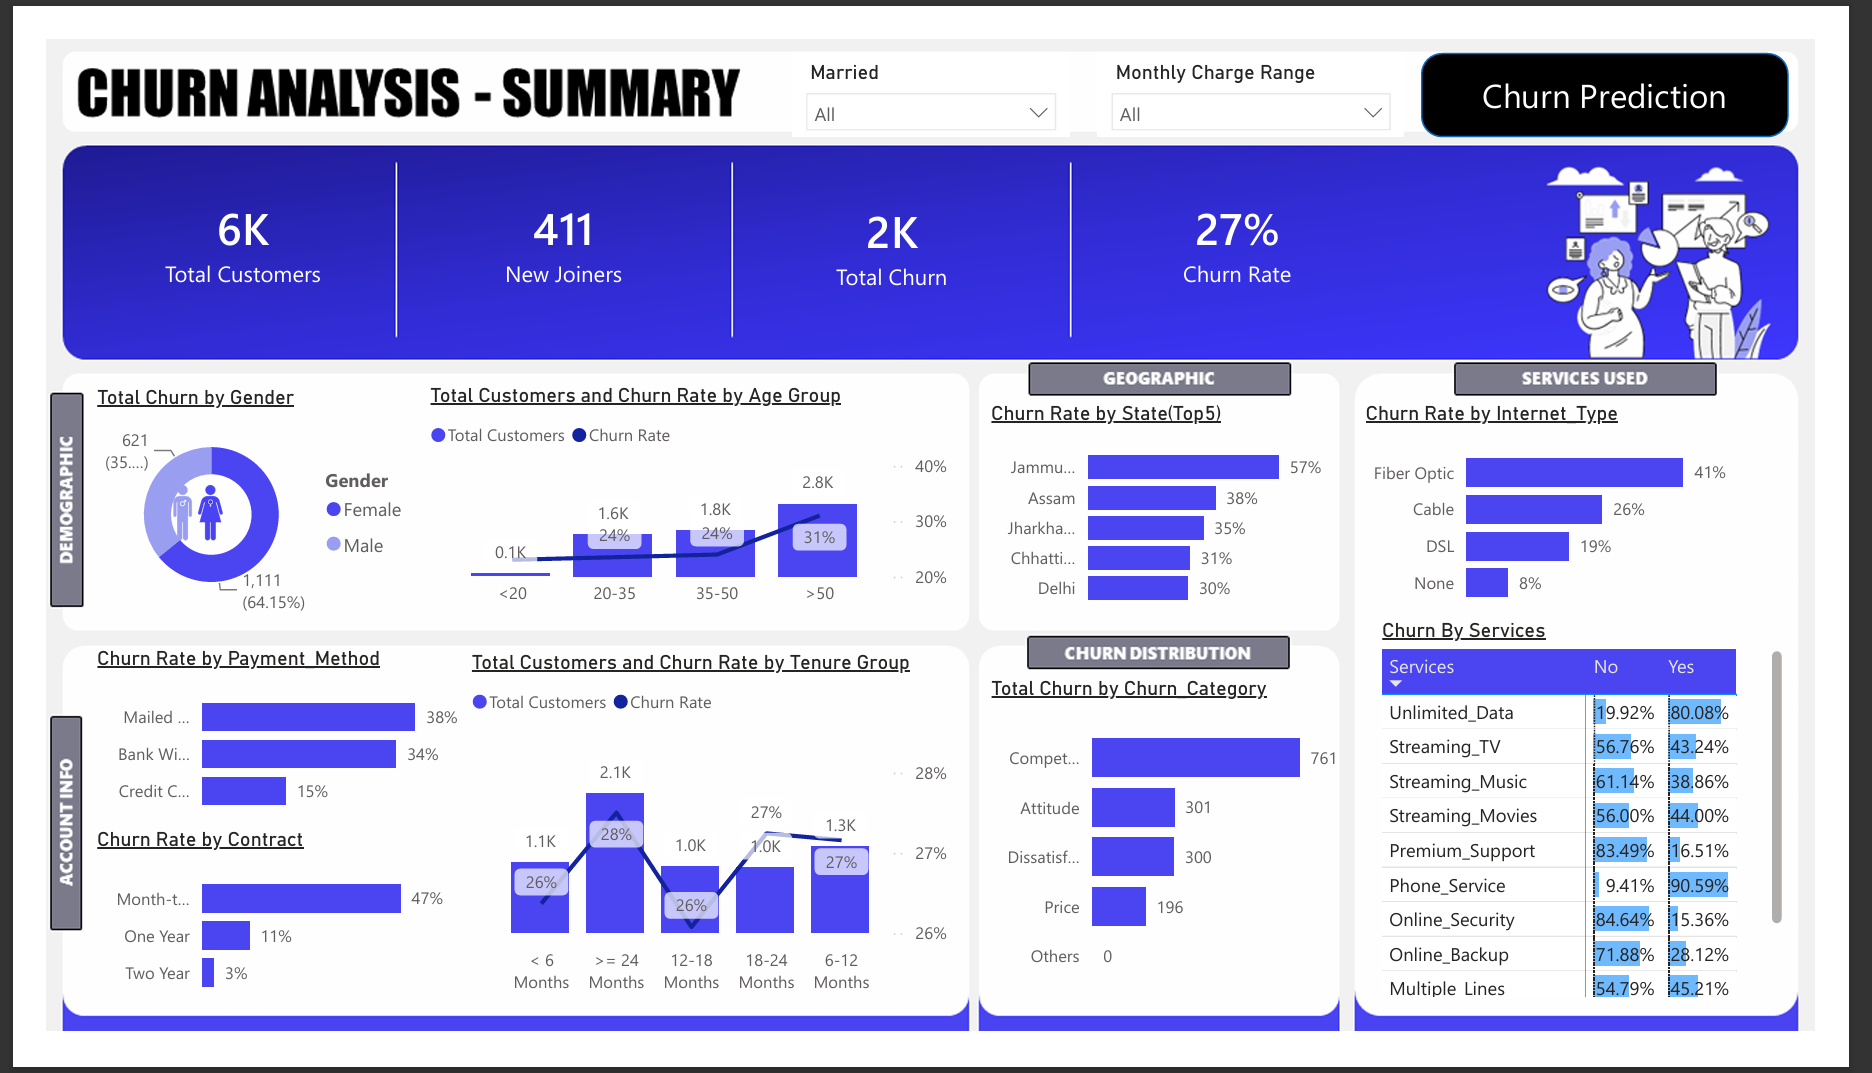

Layout of this report page (visuals, bound fields, positions):
{"tool":"powerbi","page":{"name":"Summary","canvas":[1280,720],"ordinal":0},"visuals":[{"type":"image","box":[76.8,315.6,65.9,52.1],"z":0},{"type":"cardVisual","fields":{"Data":["table measure.Total Customers"]},"box":[52.1,85.1,181.1,124.9],"z":1000},{"type":"cardVisual","fields":{"Data":["table measure.New Joiners"]},"box":[285.4,85.1,178.4,124.9],"z":2000},{"type":"cardVisual","fields":{"Data":["table measure.Total Churn"]},"box":[518.7,85.1,186.6,129],"z":3000},{"type":"cardVisual","fields":{"Data":["table measure.Churn Rate"]},"box":[761.6,85.1,200.3,124.9],"z":4000},{"type":"donutChart","fields":{"Category":["prod_Churn.Gender"],"Y":["table measure.Total Churn"]},"box":[31.6,251.1,222.3,168.8],"z":5000},{"type":"lineStackedColumnComboChart","fields":{"Category":["mapping_AgeGrp.Age Group"],"Y":["table measure.Total Customers"],"Y2":["table measure.Churn Rate"]},"box":[255.2,251.1,384.2,168.8],"z":6000},{"type":"clusteredBarChart","fields":{"Category":["prod_Churn.Payment_Method"],"Y":["table measure.Churn Rate"]},"box":[31.6,440.5,253.9,130.4],"z":7000},{"type":"clusteredBarChart","fields":{"Category":["prod_Churn.Contract"],"Y":["table measure.Churn Rate"]},"box":[31.6,570.8,253.9,131.7],"z":8000},{"type":"lineStackedColumnComboChart","fields":{"Category":["mapping_TenureGrp.Tenure Group"],"Y":["table measure.Total Customers"],"Y2":["table measure.Churn Rate"]},"box":[303.3,443.2,354,255.2],"z":9000},{"type":"clusteredBarChart","title":"Churn Rate by State(Top5)","fields":{"Category":["prod_Churn.State"],"Y":["table measure.Churn Rate"]},"box":[679.2,263.5,248.4,156.4],"z":10000},{"type":"clusteredBarChart","fields":{"Category":["prod_Churn.Churn_Category"],"Y":["table measure.Total Churn"]},"box":[679.2,462.4,260.7,236],"z":11000},{"type":"clusteredBarChart","fields":{"Category":["prod_Churn.Internet_Type"],"Y":["table measure.Churn Rate"]},"box":[949.6,263.5,312.9,156.4],"z":12000},{"type":"pivotTable","title":"Churn By Services","fields":{"Rows":["prod_Services.Services"],"Columns":["prod_Services.Status"],"Values":["Sum(prod_Services.Churn Status)"]},"box":[961.9,419.9,300.5,278.6],"z":13000},{"type":"slicer","fields":{"Values":["prod_Churn.Monthly Charge Status"]},"box":[761.4,10.8,221.7,60.2],"z":14000},{"type":"slicer","fields":{"Values":["prod_Churn.Married"]},"box":[539.8,10.8,201.2,60.2],"z":15000},{"type":"shape","box":[995.2,9.6,266.3,61.4],"z":15001}]}

Visuals, with their boxes in screenshot pixels (x1, y1, x2, y2), scaled from the page's 1280x720 canvas onto the 1872x1073 screenshot:
image: (x1=112, y1=470, x2=209, y2=548)
cardVisual - table measure.Total Customers: (x1=76, y1=127, x2=341, y2=313)
cardVisual - table measure.New Joiners: (x1=417, y1=127, x2=678, y2=313)
cardVisual - table measure.Total Churn: (x1=759, y1=127, x2=1032, y2=319)
cardVisual - table measure.Churn Rate: (x1=1114, y1=127, x2=1407, y2=313)
donutChart - prod_Churn.Gender x table measure.Total Churn: (x1=46, y1=374, x2=371, y2=626)
lineStackedColumnComboChart - mapping_AgeGrp.Age Group x table measure.Total Customers: (x1=373, y1=374, x2=935, y2=626)
clusteredBarChart - prod_Churn.Payment_Method x table measure.Churn Rate: (x1=46, y1=656, x2=418, y2=851)
clusteredBarChart - prod_Churn.Contract x table measure.Churn Rate: (x1=46, y1=851, x2=418, y2=1047)
lineStackedColumnComboChart - mapping_TenureGrp.Tenure Group x table measure.Total Customers: (x1=444, y1=660, x2=961, y2=1041)
"Churn Rate by State(Top5)" clusteredBarChart: (x1=993, y1=393, x2=1357, y2=626)
clusteredBarChart - prod_Churn.Churn_Category x table measure.Total Churn: (x1=993, y1=689, x2=1375, y2=1041)
clusteredBarChart - prod_Churn.Internet_Type x table measure.Churn Rate: (x1=1389, y1=393, x2=1846, y2=626)
"Churn By Services" pivotTable: (x1=1407, y1=626, x2=1846, y2=1041)
slicer - prod_Churn.Monthly Charge Status: (x1=1114, y1=16, x2=1438, y2=106)
slicer - prod_Churn.Married: (x1=789, y1=16, x2=1084, y2=106)
shape: (x1=1455, y1=14, x2=1845, y2=106)
